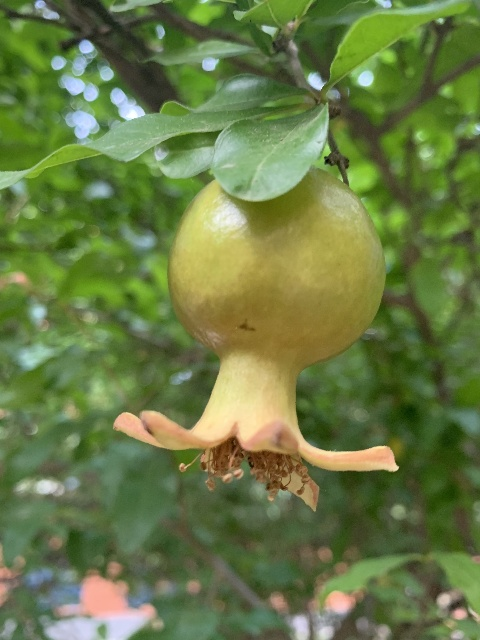mid-growth: (115, 168, 396, 510)
